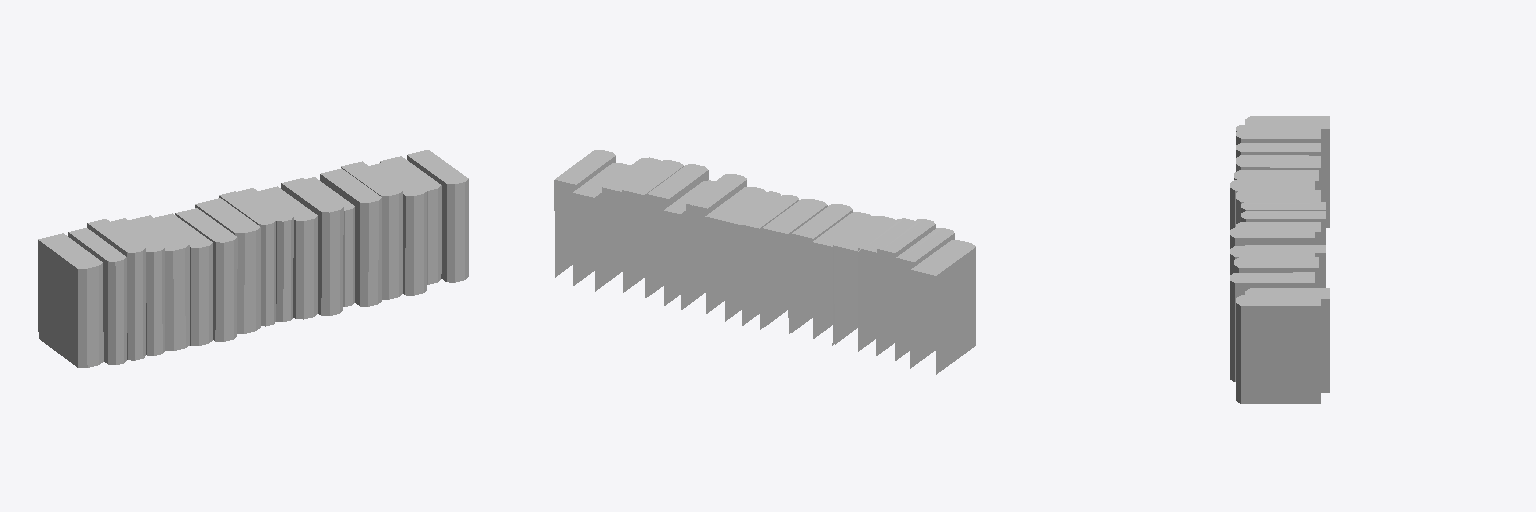
Rendered from BookGroup_Medium_2.obj.
3 renders of one model, left to right at view 1: azimuth 30°, elevation 25°; view 2: azimuth 150°, elevation 25°; view 3: azimuth 270°, elevation 25°, orthographic.
Visible parts, largest first — view 1: BookGroup_Medium_2_Cube.092; view 2: BookGroup_Medium_2_Cube.092; view 3: BookGroup_Medium_2_Cube.092.
Boxes of the visible parts, x1,y1,x2,y2 form: BookGroup_Medium_2_Cube.092: [38, 150, 468, 367]; BookGroup_Medium_2_Cube.092: [554, 150, 975, 374]; BookGroup_Medium_2_Cube.092: [1230, 116, 1329, 403].
Size of the model in its own units: 1.1 by 0.2949 by 0.2475.